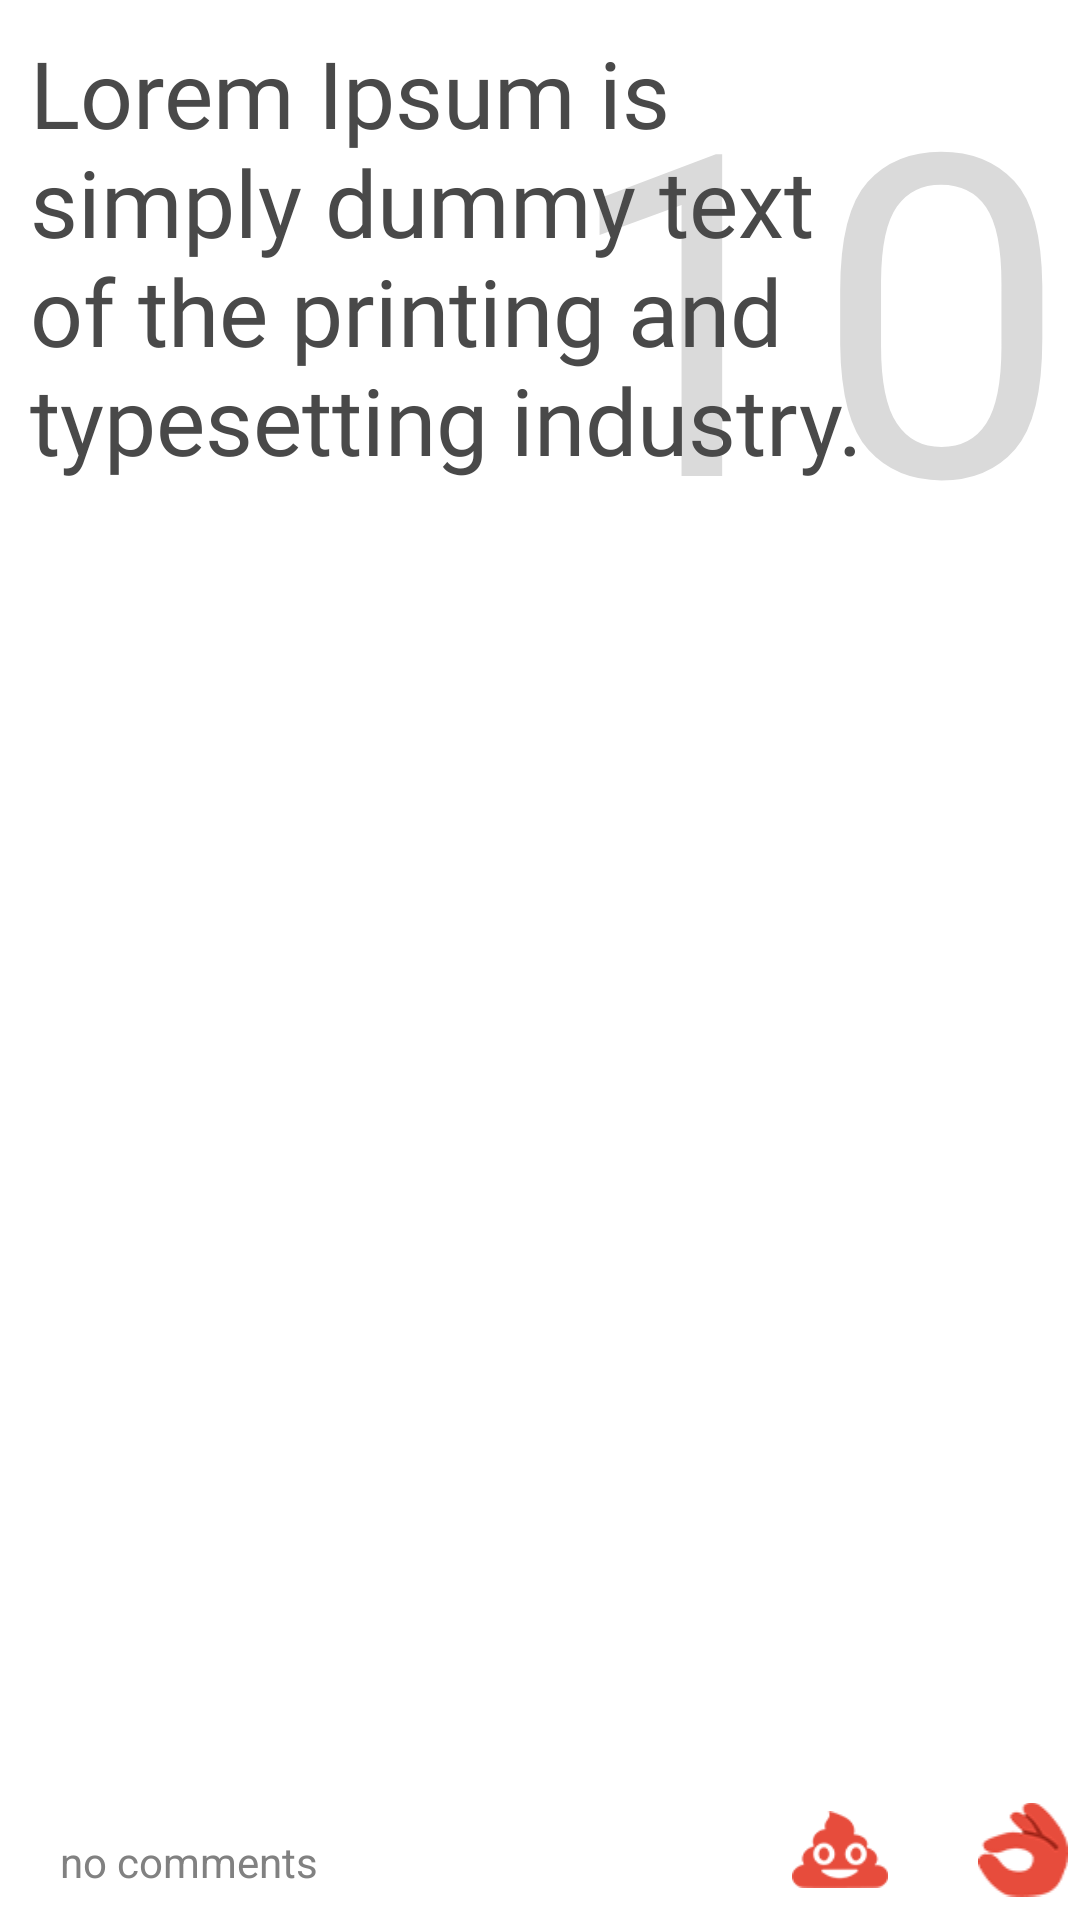

Screen size 1080*1920. Icon name, then its center in pixels as point (x, y):
okay: point (1023, 1850)
poop: point (840, 1849)
